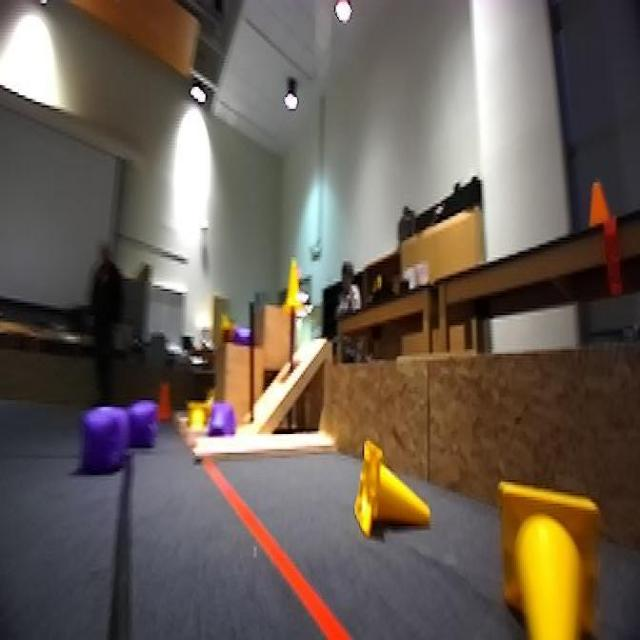frc_cone: (493, 478, 592, 640), (349, 442, 426, 538), (282, 257, 307, 315), (183, 402, 210, 429)
frc_cube: (81, 406, 129, 476), (131, 400, 158, 449), (226, 317, 254, 349), (208, 398, 230, 436)
